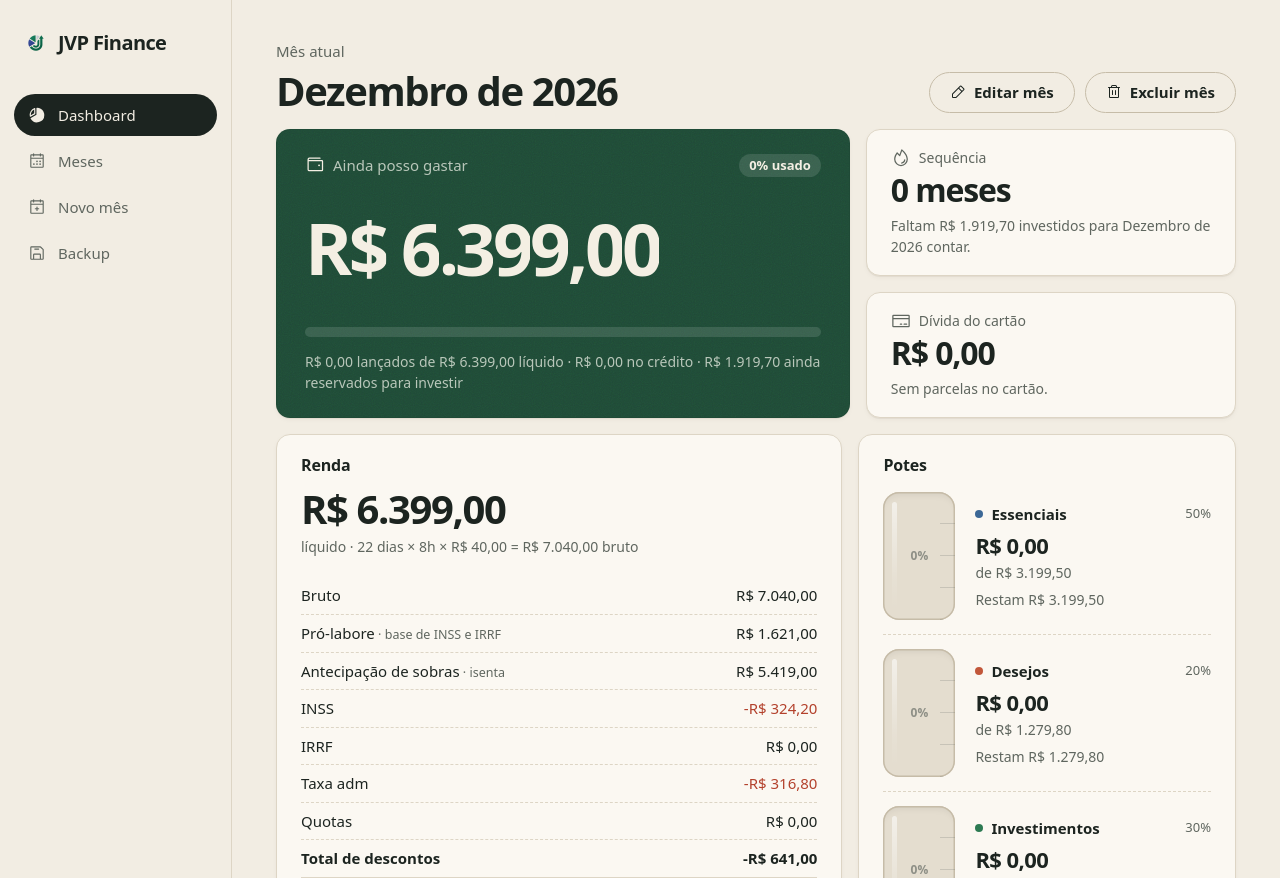
Test case: página Meses lista os meses e abre um anterior
Click the button "Meses" at coordinates (116, 161), box [14,140,217,182]
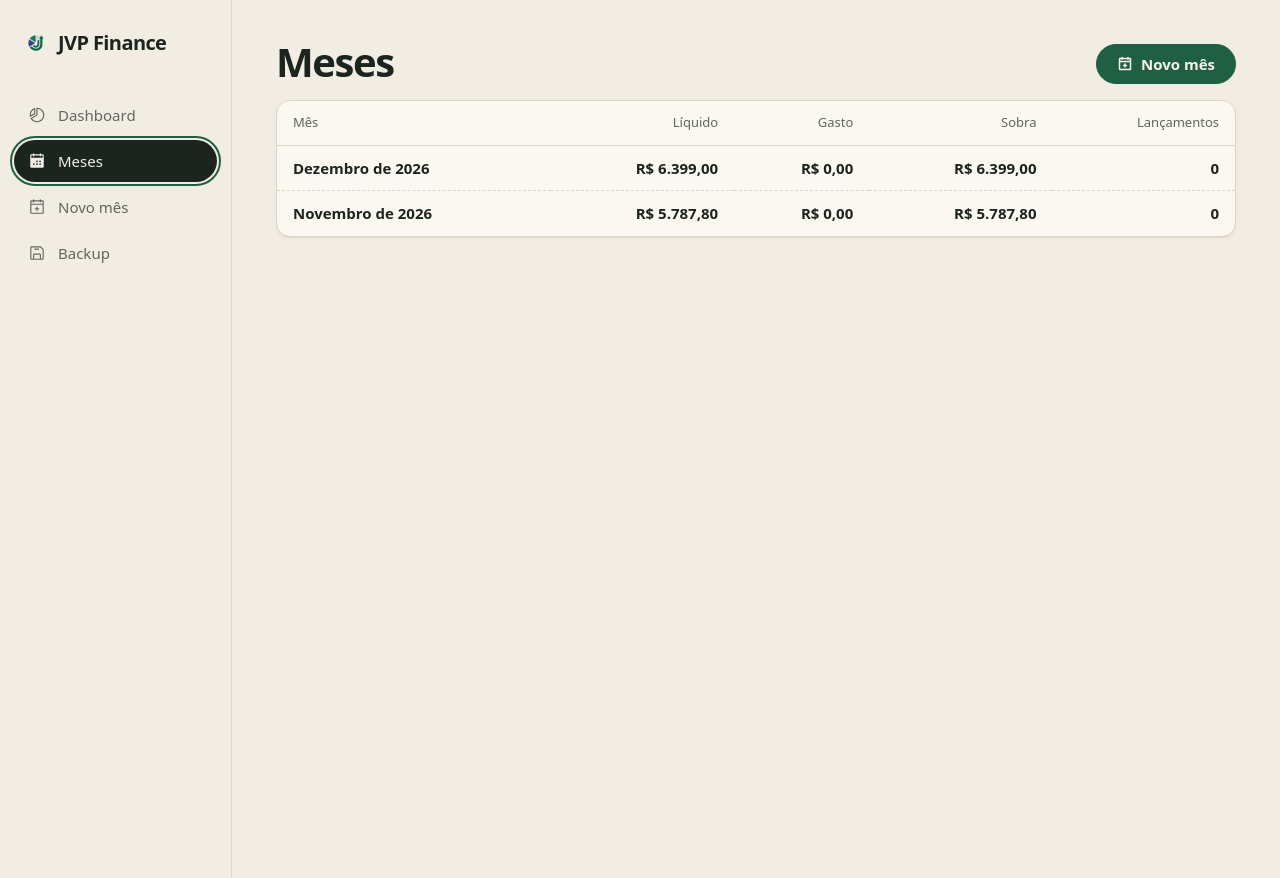
Expected: the row "Dezembro de 2026 R$ 6.399,00 R$ 0,00 R$ 6.399,00 0" is shown, [277,145,1235,190]
Expected: the row "Novembro de 2026 R$ 5.787,80 R$ 0,00 R$ 5.787,80 0" is shown, [277,190,1235,236]
Click the button "Novembro de 2026" at coordinates (363, 213), box [293,202,432,224]
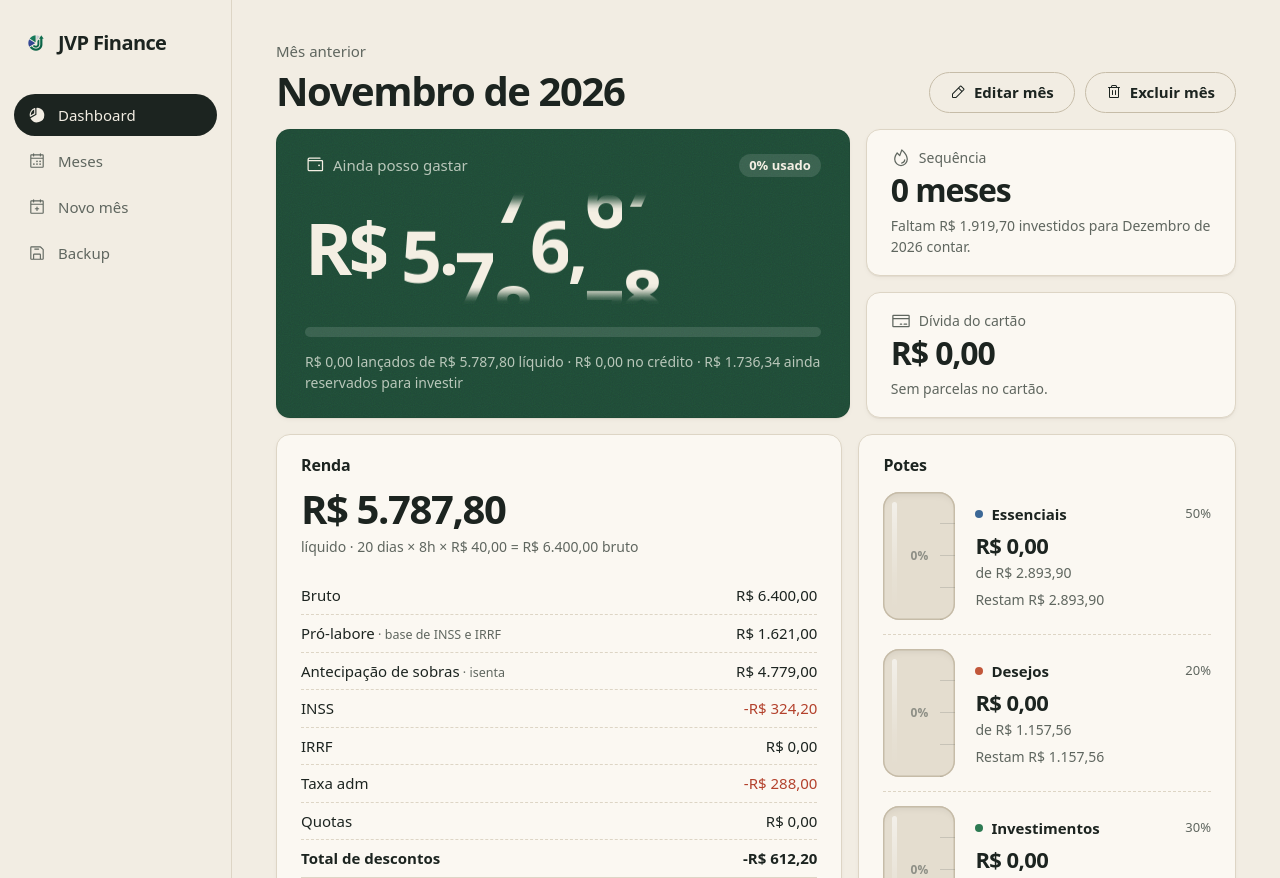
Expected: the heading "Novembro de 2026" is shown, [276,68,624,112]
